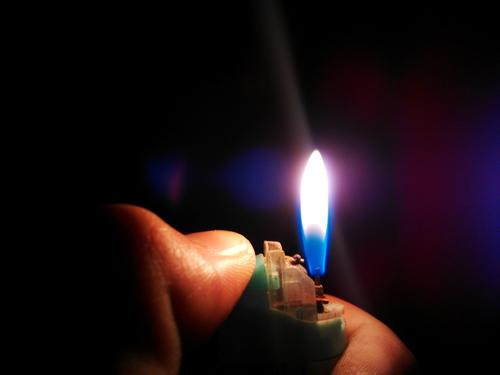fire: (282, 139, 347, 299)
